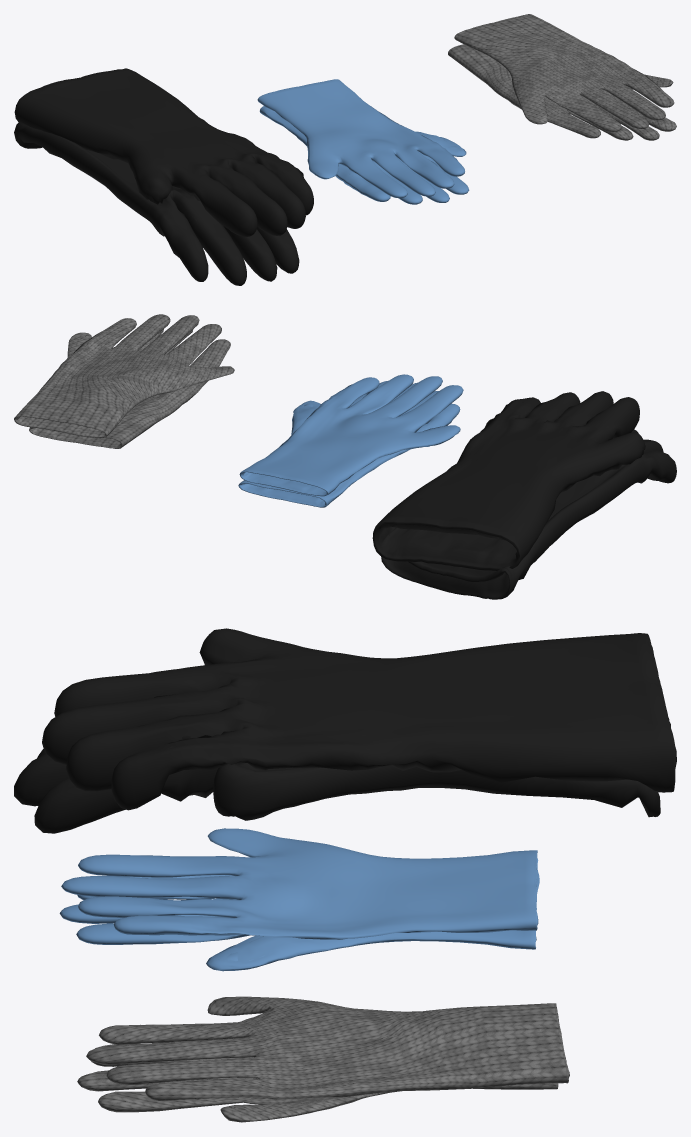
The model's file is gloves1.glb.
The picture shows the model from 3 angles, top to bottom: view 1: azimuth 30°, elevation 25°; view 2: azimuth 150°, elevation 25°; view 3: azimuth 270°, elevation 25°; orthographic projection. The views are drawn at different scales.
Parts seen in each view (by area): view 1: glove_left.001, glove_left.006, glove_left.004, glove_right.001, glove_left.002, glove_left.005; view 2: glove_left.001, glove_left.006, glove_left.004, glove_right.001, glove_left.002, glove_left.005; view 3: glove_left.001, glove_left.006, glove_left.004, glove_right.001, glove_left.005, glove_left.002.
Boxes of the visible parts, <box> form: glove_left.001: <box>14,68,313,236</box>; glove_left.006: <box>454,14,674,131</box>; glove_left.004: <box>257,79,464,198</box>; glove_right.001: <box>14,122,299,285</box>; glove_left.002: <box>448,44,676,140</box>; glove_left.005: <box>259,106,469,204</box>; glove_left.001: <box>372,391,645,570</box>; glove_left.006: <box>14,314,234,438</box>; glove_left.004: <box>239,374,463,496</box>; glove_right.001: <box>381,429,676,599</box>; glove_left.002: <box>29,329,230,448</box>; glove_left.005: <box>238,380,460,507</box>; glove_left.001: <box>42,628,676,810</box>; glove_left.006: <box>86,996,569,1100</box>; glove_left.004: <box>61,828,539,939</box>; glove_right.001: <box>14,749,660,833</box>; glove_left.005: <box>59,875,537,971</box>; glove_left.002: <box>77,1023,558,1122</box>.
Size of the model in its own units: 0.5886 by 0.0807 by 0.3673.
4 materials, 3 textured.
